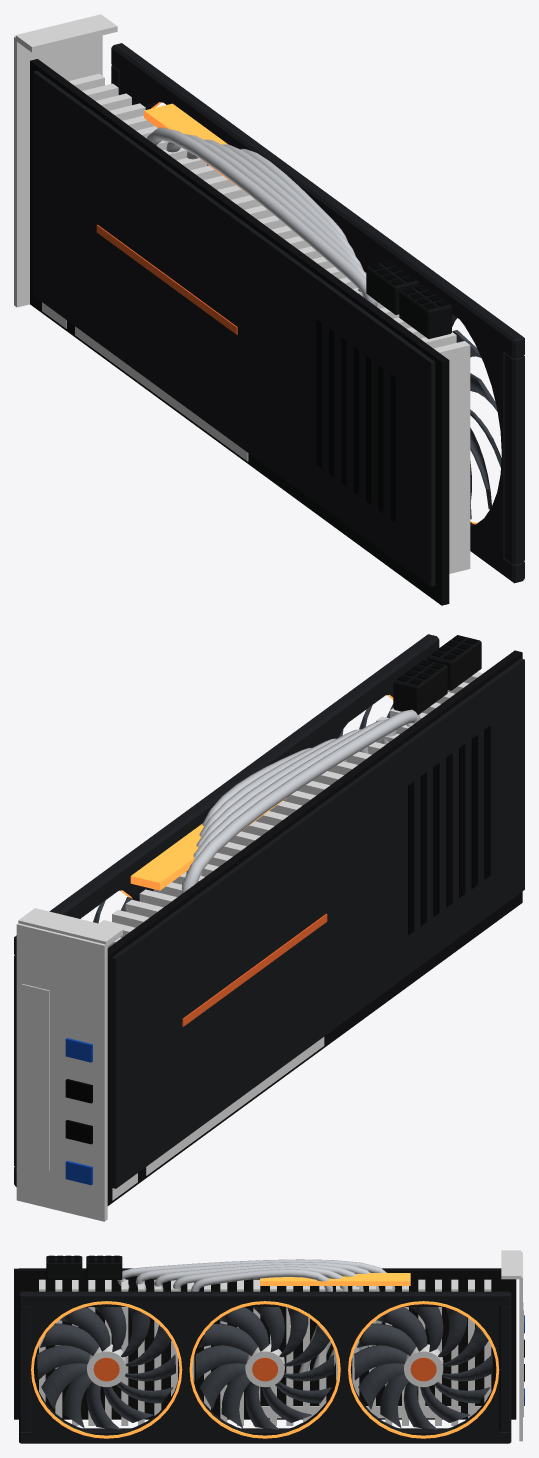
Rendered from hw_gpu_rtx4090.glb.
3 renders of one model, top to bottom at view 1: azimuth 30°, elevation 25°; view 2: azimuth 150°, elevation 25°; view 3: azimuth 270°, elevation 25°, orthographic. The views are drawn at different scales.
Visible parts, largest first — view 1: Body, Rotor_X_2; view 2: Body; view 3: Body, Rotor_X_0, Rotor_X_2, Rotor_X_1.
Part boxes in pixels (bbox=[...]): Body: bbox=[14, 14, 524, 605]; Rotor_X_2: bbox=[452, 314, 501, 519]; Body: bbox=[14, 634, 524, 1221]; Body: bbox=[14, 1250, 524, 1443]; Rotor_X_0: bbox=[354, 1307, 492, 1429]; Rotor_X_2: bbox=[37, 1307, 175, 1429]; Rotor_X_1: bbox=[195, 1307, 334, 1429].
Size of the model in its own units: 0.0426 by 0.1106 by 0.3052.
